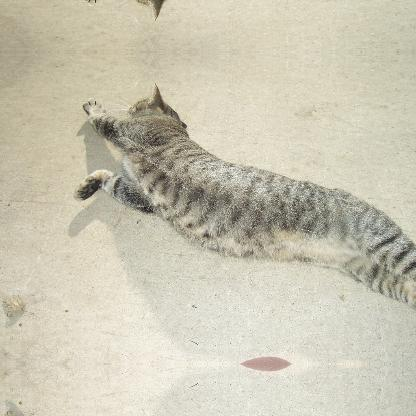Cat: (73, 80, 416, 306)
